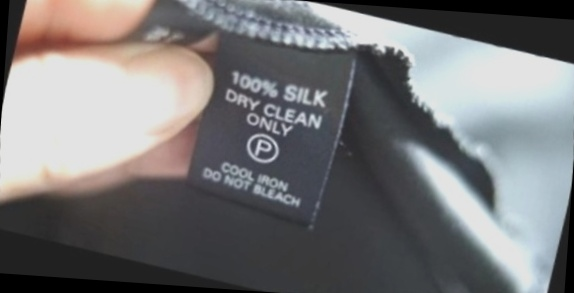dry_clean_any_solvent_except_trichloroethylene: (238, 123, 290, 173)
